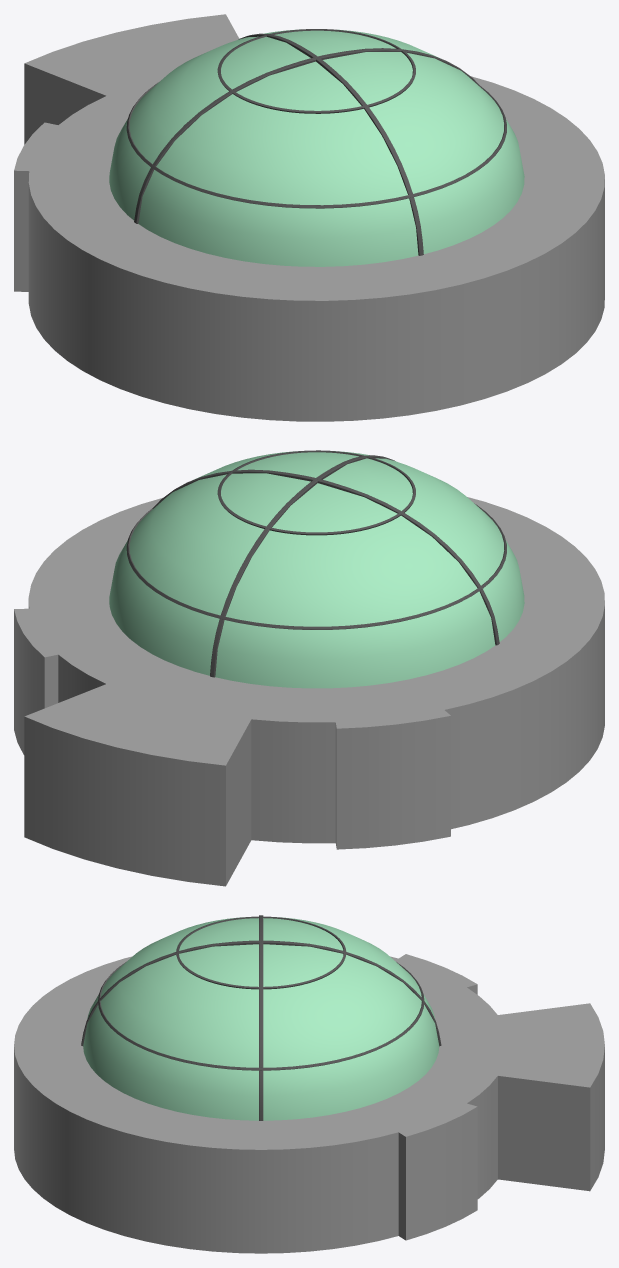
The model's file is SM_shiyanshi01.fbx.
3 views of the same model, one above another, from view 1: azimuth 30°, elevation 25°; view 2: azimuth 150°, elevation 25°; view 3: azimuth 270°, elevation 25° (orthographic). The views are drawn at different scales.
Visible parts, largest first — view 1: waike, ding; view 2: waike, ding; view 3: waike, ding.
Boxes of the visible parts, bbox=[...] form: waike: bbox=[14, 14, 604, 421]; ding: bbox=[109, 29, 524, 266]; waike: bbox=[14, 497, 604, 886]; ding: bbox=[109, 450, 524, 688]; waike: bbox=[14, 954, 604, 1253]; ding: bbox=[81, 915, 441, 1120].
Size of the model in its own units: 2081 by 964 by 2486.
